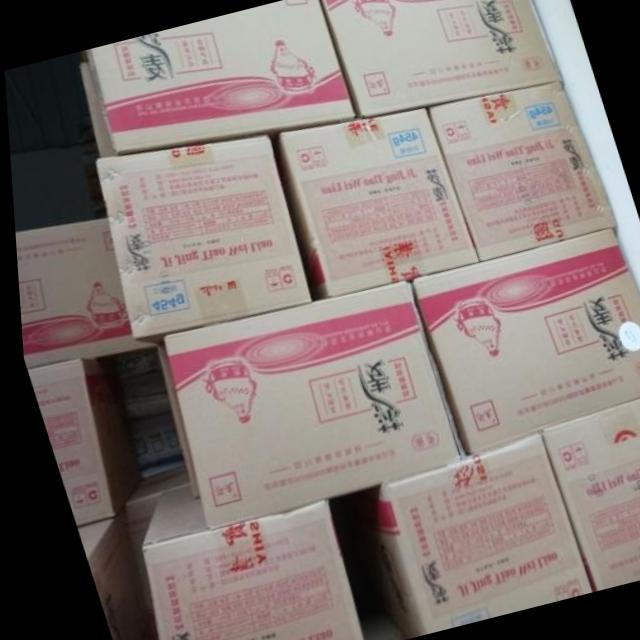box: (151, 279, 461, 528), (406, 229, 640, 456), (342, 433, 583, 636), (93, 134, 310, 343), (86, 0, 355, 155), (275, 107, 476, 300), (426, 83, 615, 262), (136, 487, 353, 640), (319, 0, 561, 118), (12, 218, 151, 367), (534, 396, 640, 589), (23, 357, 134, 526), (119, 466, 181, 640), (70, 502, 145, 640)
